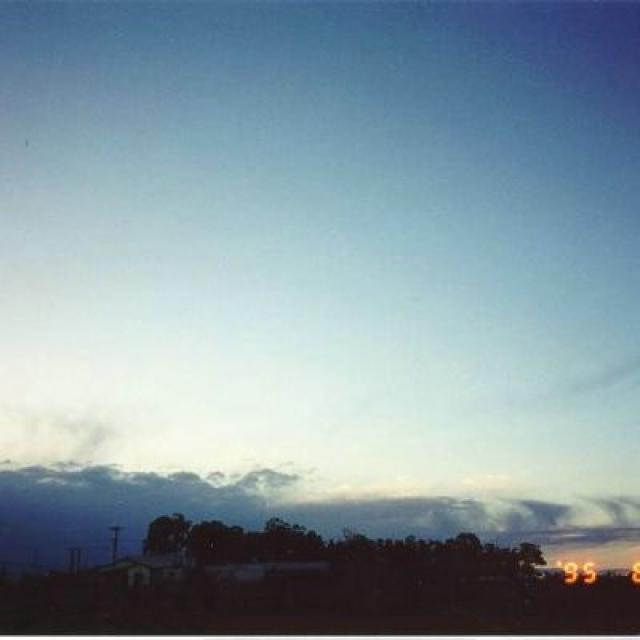Ns: (2, 43, 640, 514)
